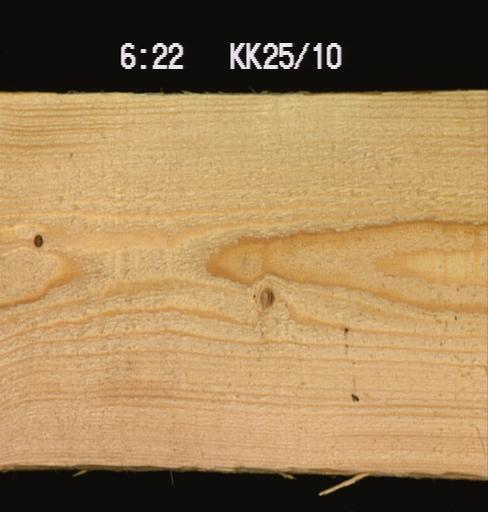dry_knot: (30, 231, 44, 248)
sound_knot: (255, 285, 275, 309)
